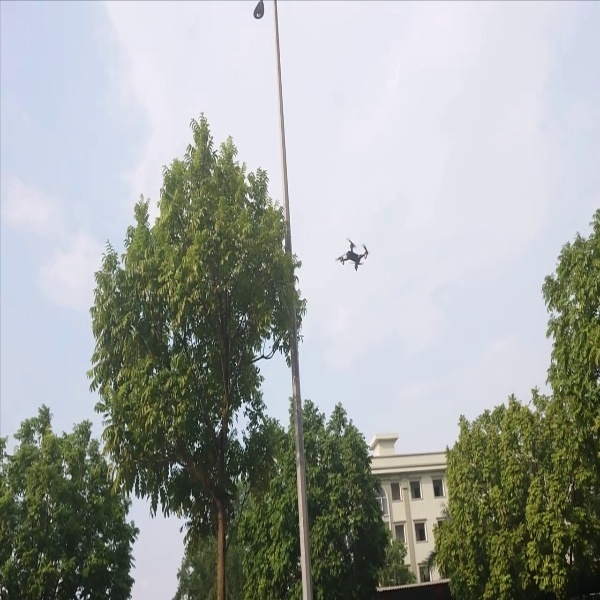drone: (322, 230, 384, 280)
